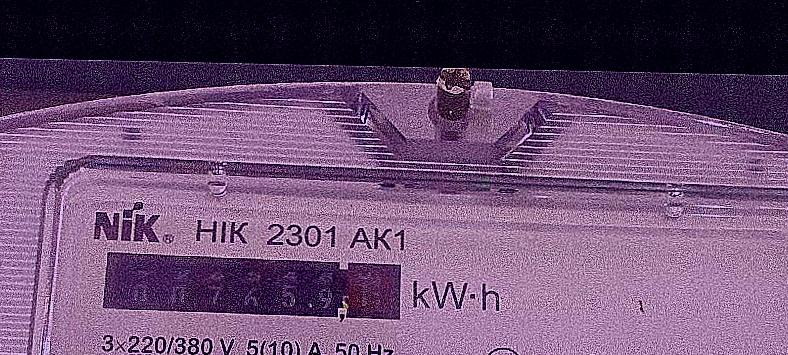0: (168, 280, 187, 306), (130, 278, 148, 305)
1: (357, 277, 371, 310)
5: (277, 281, 299, 308)
6: (241, 283, 260, 307)
7: (204, 282, 224, 307)
9: (315, 283, 333, 311)
screen: (92, 239, 412, 336)
